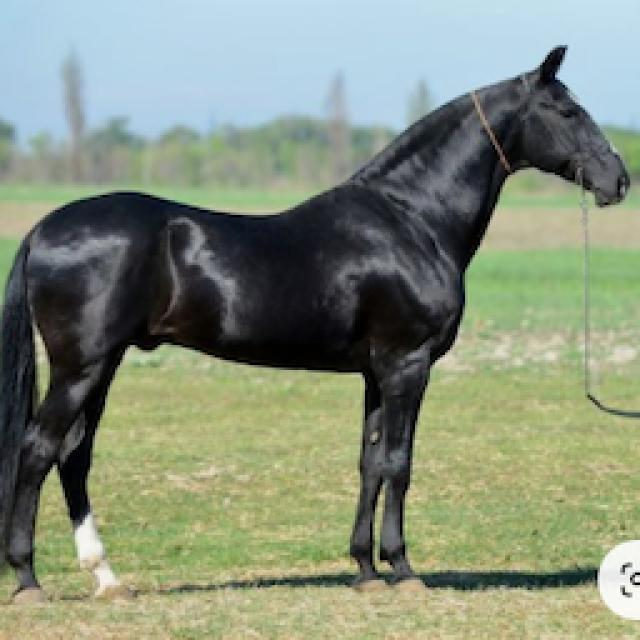Horse: (0, 38, 638, 608)
